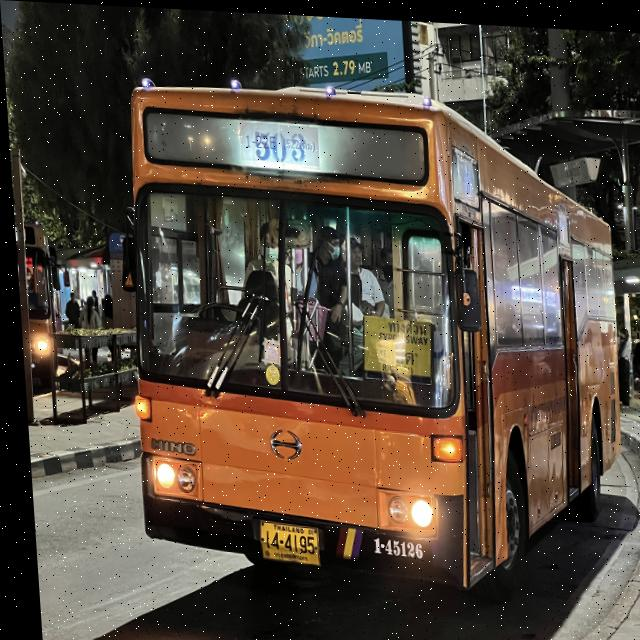BMTA-bus: (109, 79, 628, 595)
Bus-Line-Number: (238, 117, 319, 168)
Destination-Sign-Normal-Expressway: (355, 304, 434, 380)
